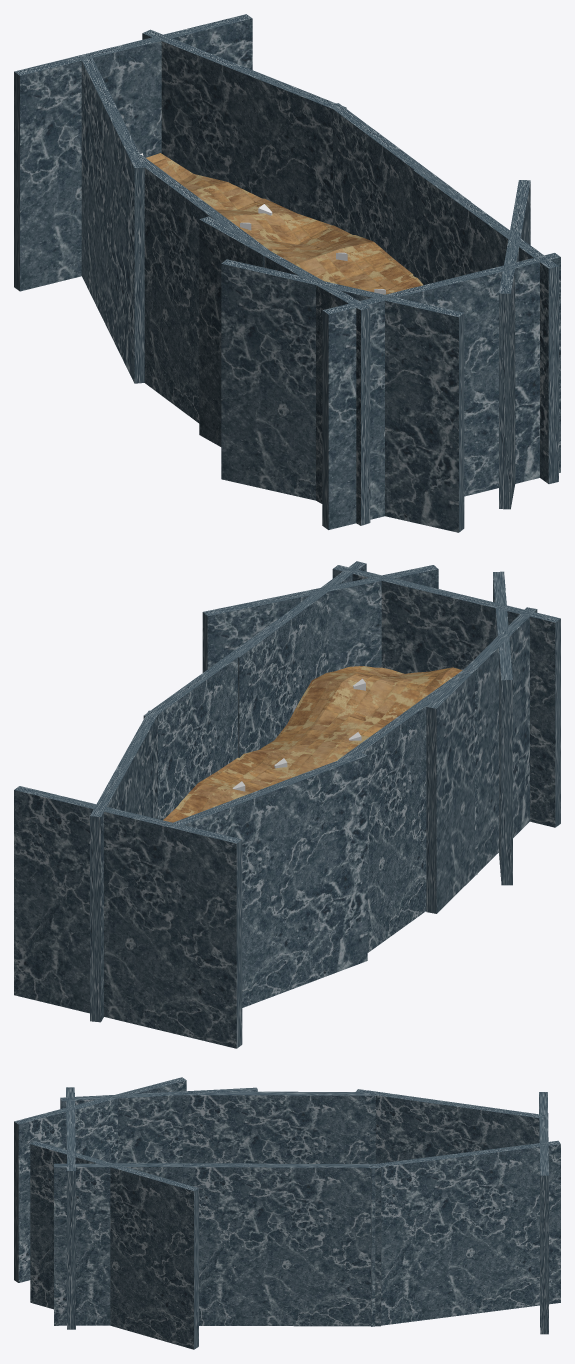
Rendered from wts-base.gltf.
3 views of the same model, one above another, from view 1: azimuth 30°, elevation 25°; view 2: azimuth 150°, elevation 25°; view 3: azimuth 270°, elevation 25° (orthographic). The views are drawn at different scales.
Parts seen in each view (by area): view 1: Cube, Plane.001, Plane; view 2: Cube, Plane, Plane.001; view 3: Cube.
Part boxes in pixels (bbox=[...]): Cube: bbox=[14, 14, 560, 532]; Plane.001: bbox=[147, 153, 413, 289]; Plane: bbox=[146, 157, 423, 294]; Cube: bbox=[14, 561, 560, 1048]; Plane: bbox=[163, 666, 459, 822]; Plane.001: bbox=[198, 666, 462, 804]; Cube: bbox=[14, 1077, 560, 1349].
Size of the model in its own units: 61.53 by 39.9 by 125.
Materials: 2 (2 with a texture image).
